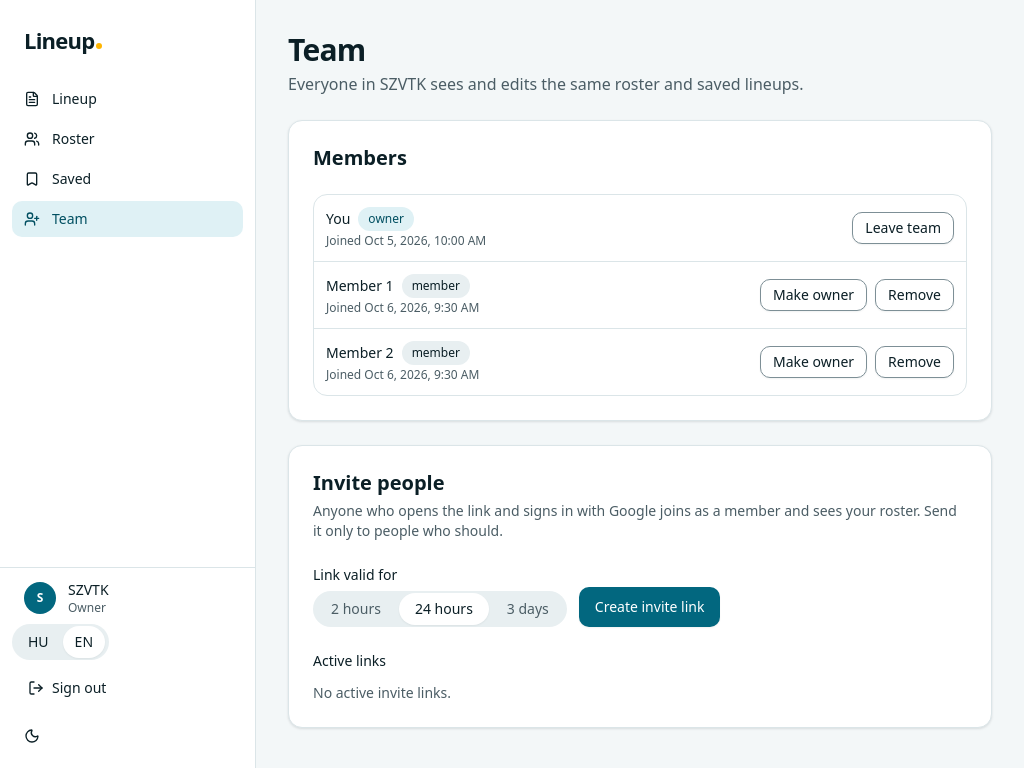
Test: leaving › leaves with the caller's own id and lands on onboarding with no team left
Click the button "Leave team": (903, 228) [852, 212, 954, 244]
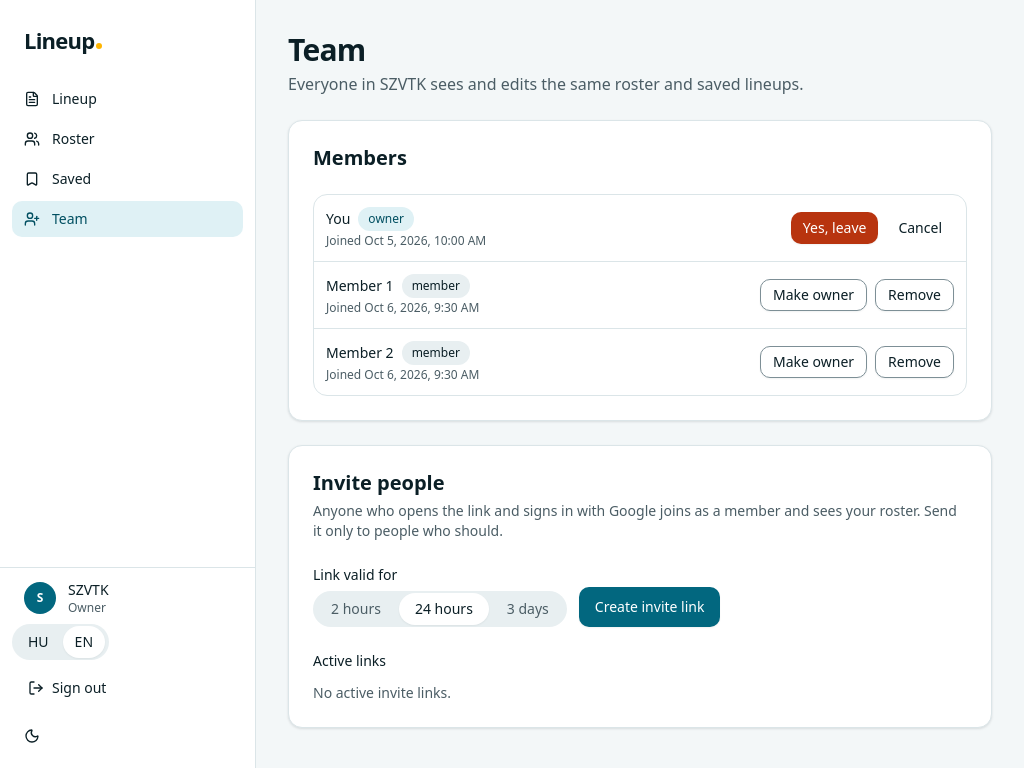
Click the button "Yes, leave": (835, 228) [791, 212, 878, 244]
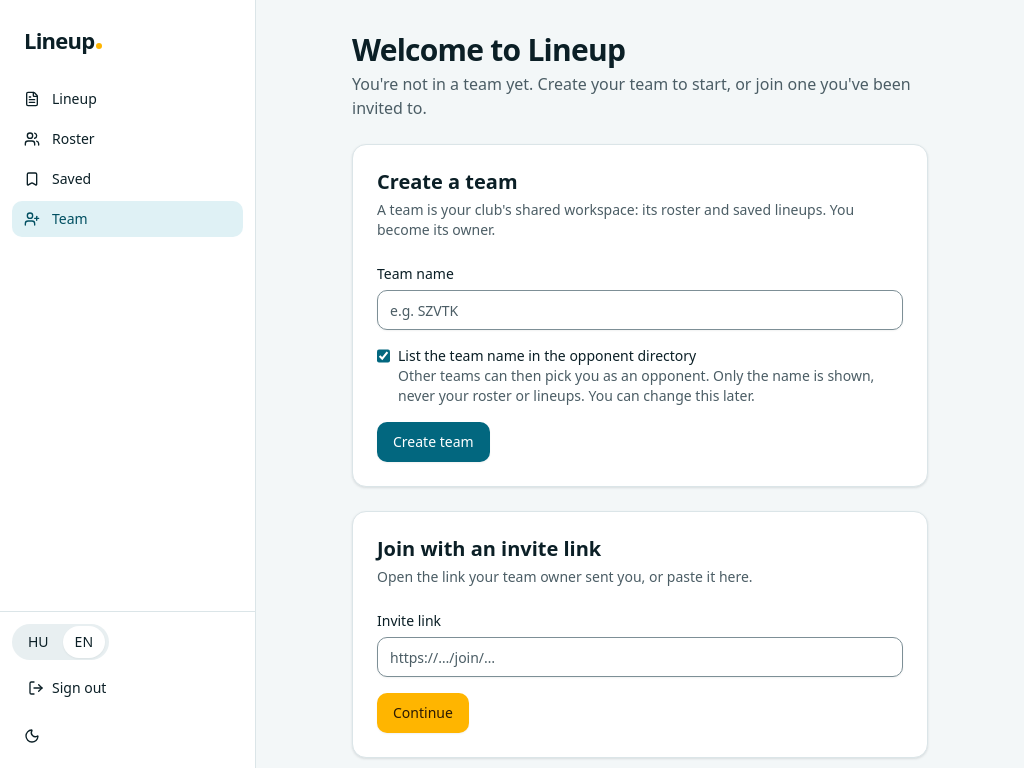
Check: the heading "Welcome to Lineup" is shown, box [352, 29, 625, 70]
